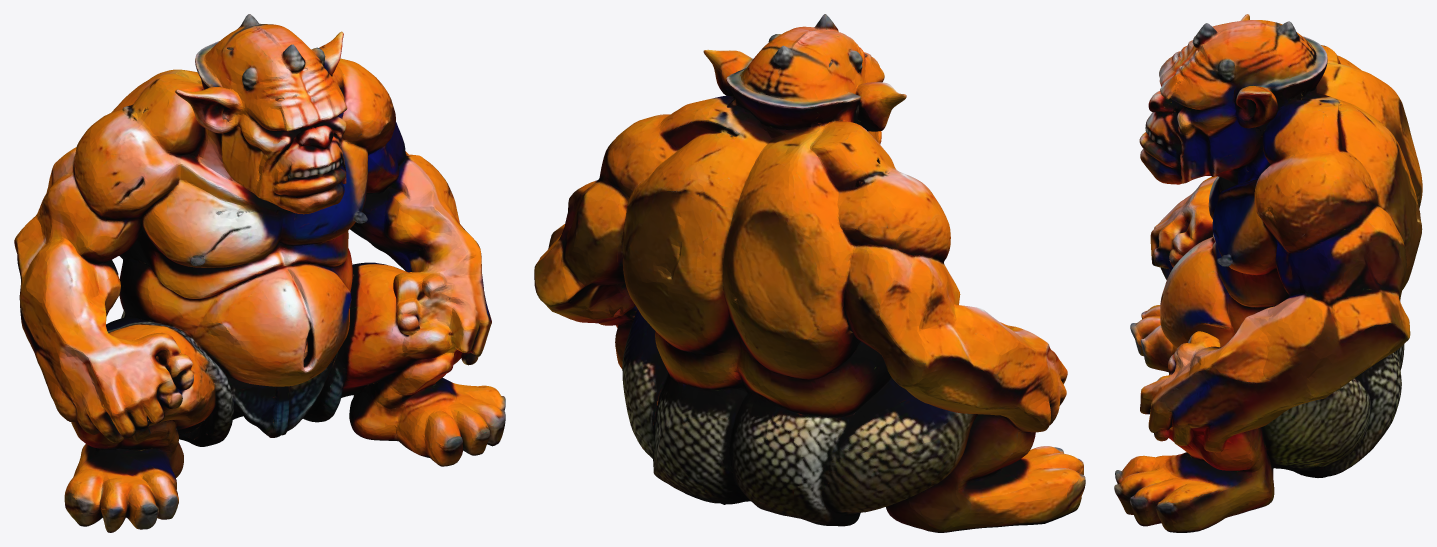
File: landmark_ogre_idol_01.glb
3 renders of one model, left to right at view 1: azimuth 30°, elevation 25°; view 2: azimuth 150°, elevation 25°; view 3: azimuth 270°, elevation 25°, orthographic. The views are drawn at different scales.
Visible parts, largest first — view 1: geometry_0; view 2: geometry_0; view 3: geometry_0.
Part boxes in pixels (<box>): geometry_0: <box>14,14,505,532</box>; geometry_0: <box>534,14,1085,532</box>; geometry_0: <box>1114,14,1422,532</box>.
Bounding box in the file's own units: 1 × 0.9351 × 0.6137.
Materials: 1 (1 with a texture image).
